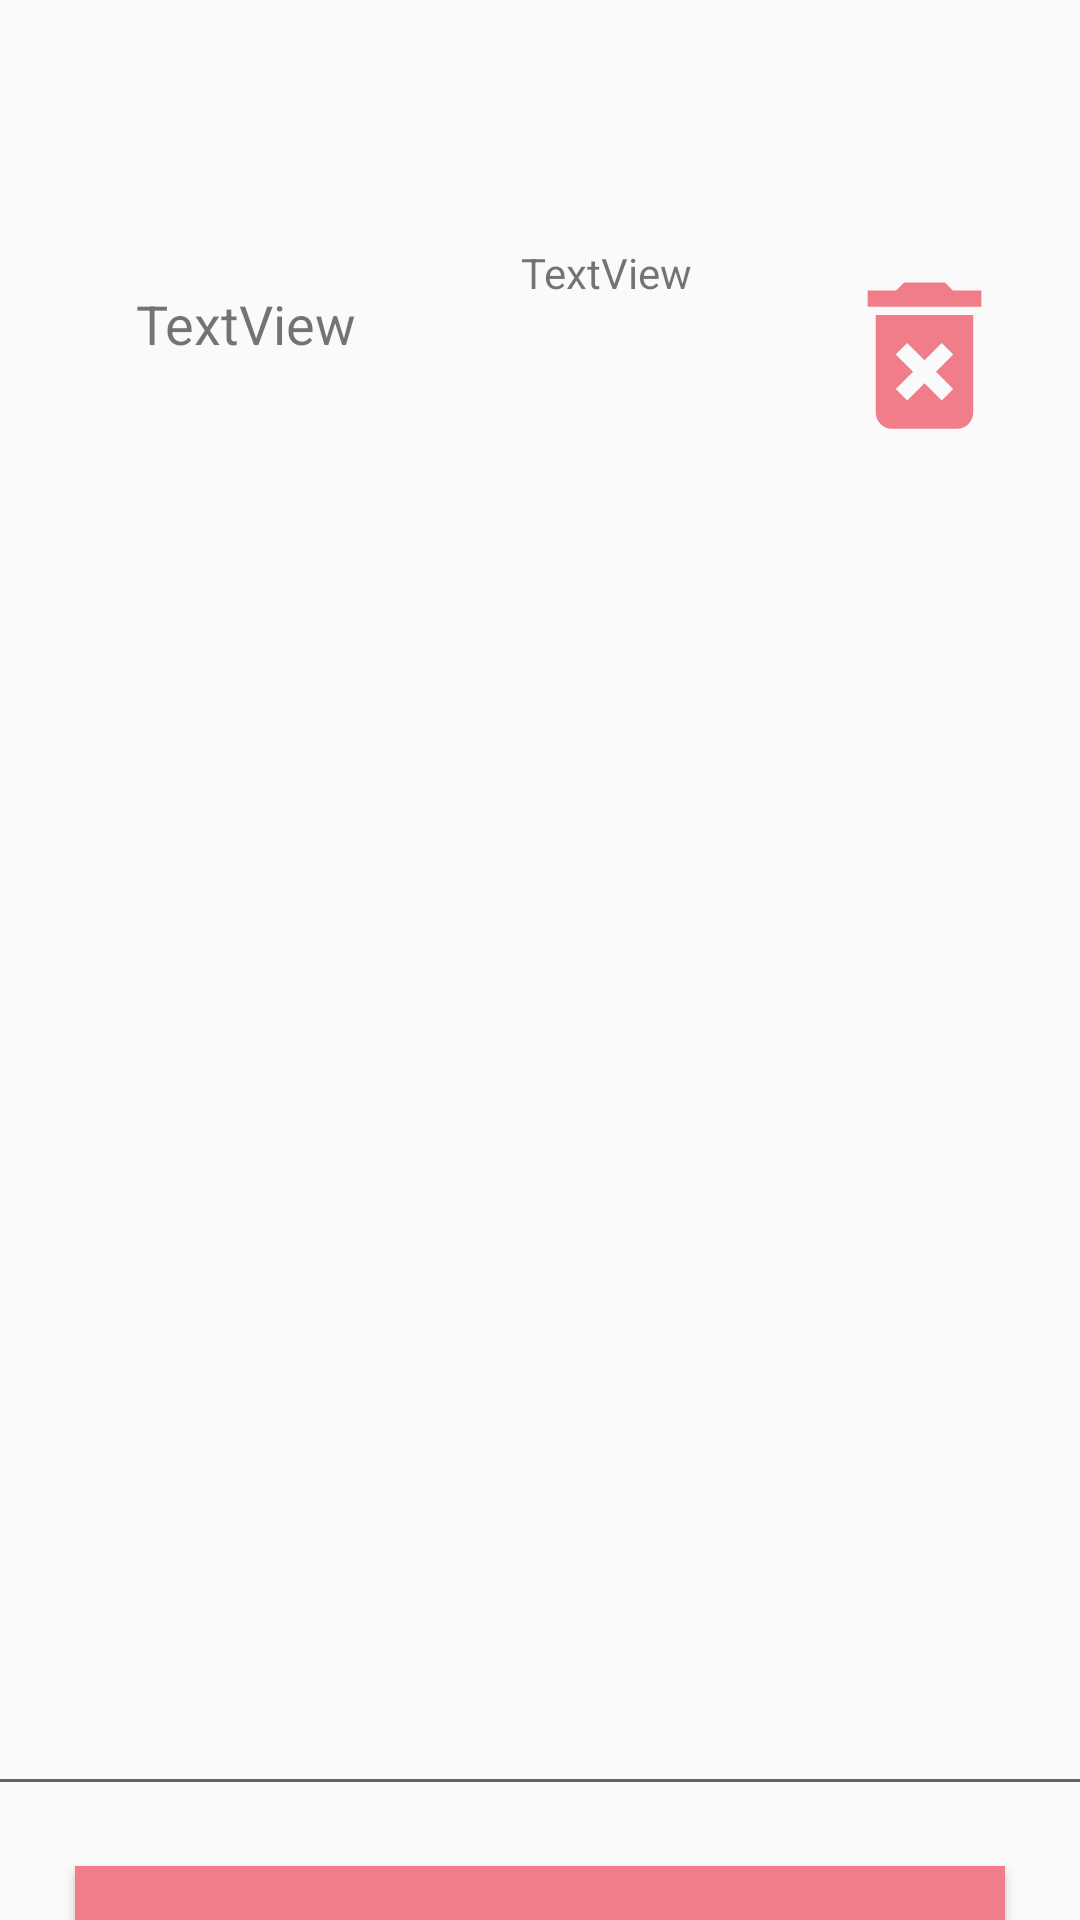

Where to tap for icons on this 1080 x 1920 app screen, as (x,y):
delete forever: (924,355)
